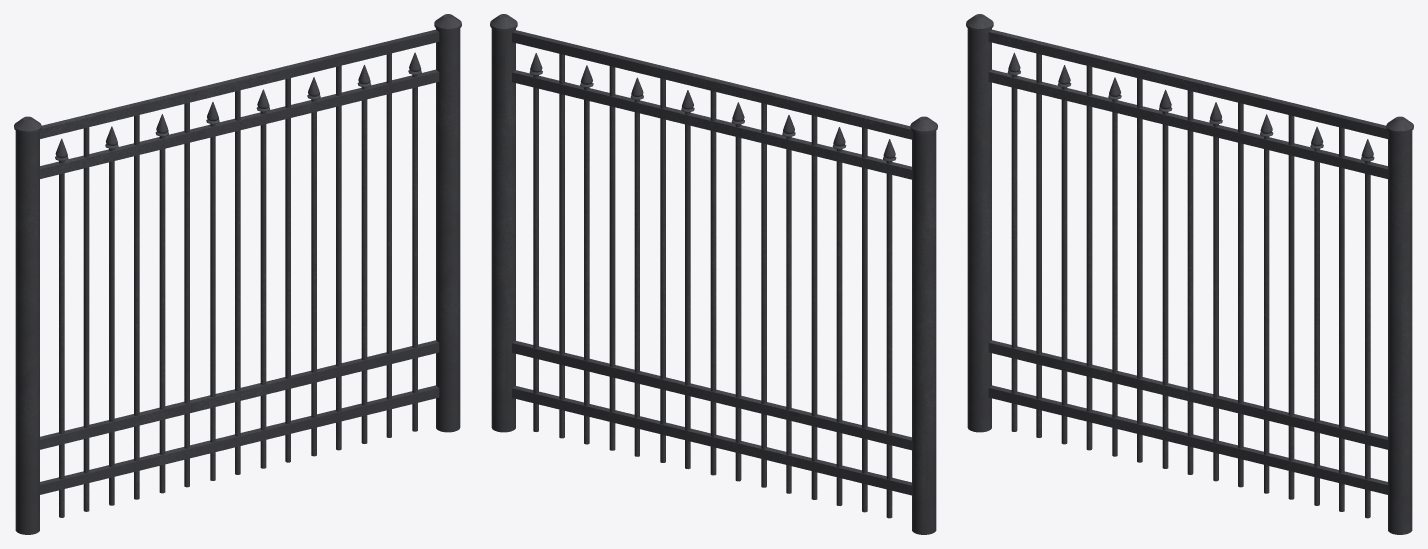
File: Aluminium_Fence_6x6.fbx
The picture shows the model from 3 angles, left to right: view 1: azimuth 30°, elevation 25°; view 2: azimuth 150°, elevation 25°; view 3: azimuth 330°, elevation 25°; orthographic projection.
Parts seen in each view (by area): view 1: Fence_, Post_Right_, Post_left; view 2: Fence_, Post_Right_, Post_left; view 3: Fence_, Post_left, Post_Right_.
Part boxes in pixels (left/top/right/bottom): Fence_: left=40, top=29, right=439, bottom=517; Post_Right_: left=14, top=116, right=41, bottom=534; Post_left: left=434, top=14, right=461, bottom=432; Fence_: left=512, top=30, right=911, bottom=518; Post_Right_: left=910, top=116, right=937, bottom=534; Post_left: left=490, top=14, right=517, bottom=432; Fence_: left=988, top=29, right=1387, bottom=518; Post_left: left=1386, top=116, right=1413, bottom=534; Post_Right_: left=966, top=14, right=993, bottom=432.
Bounding box in the file's own units: 83.27 × 73.66 × 4.49.
Materials: 1 (1 with a texture image).
